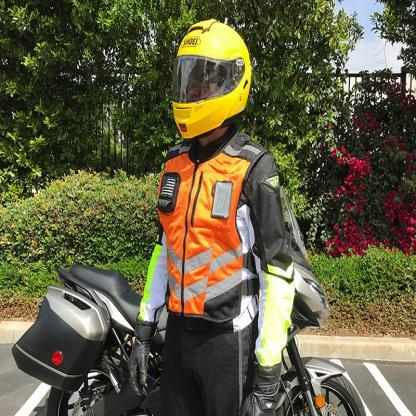helmet: (171, 18, 253, 142)
